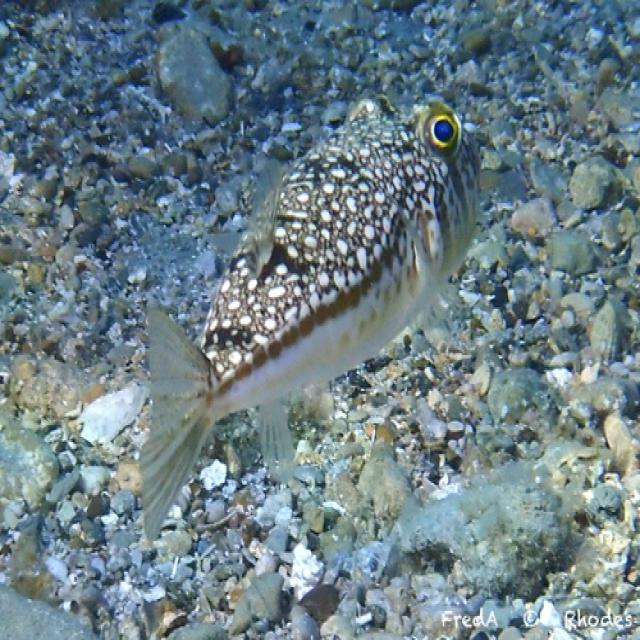Balik: (141, 101, 478, 539)
